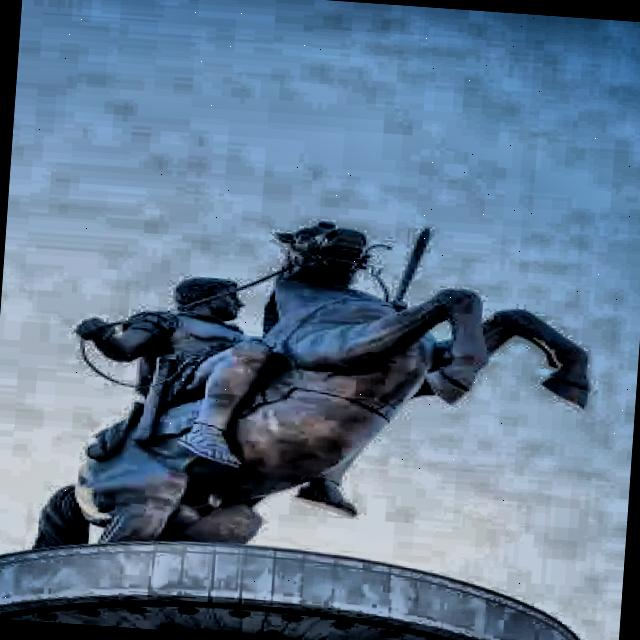alexander the great monument: (0, 193, 631, 640)
